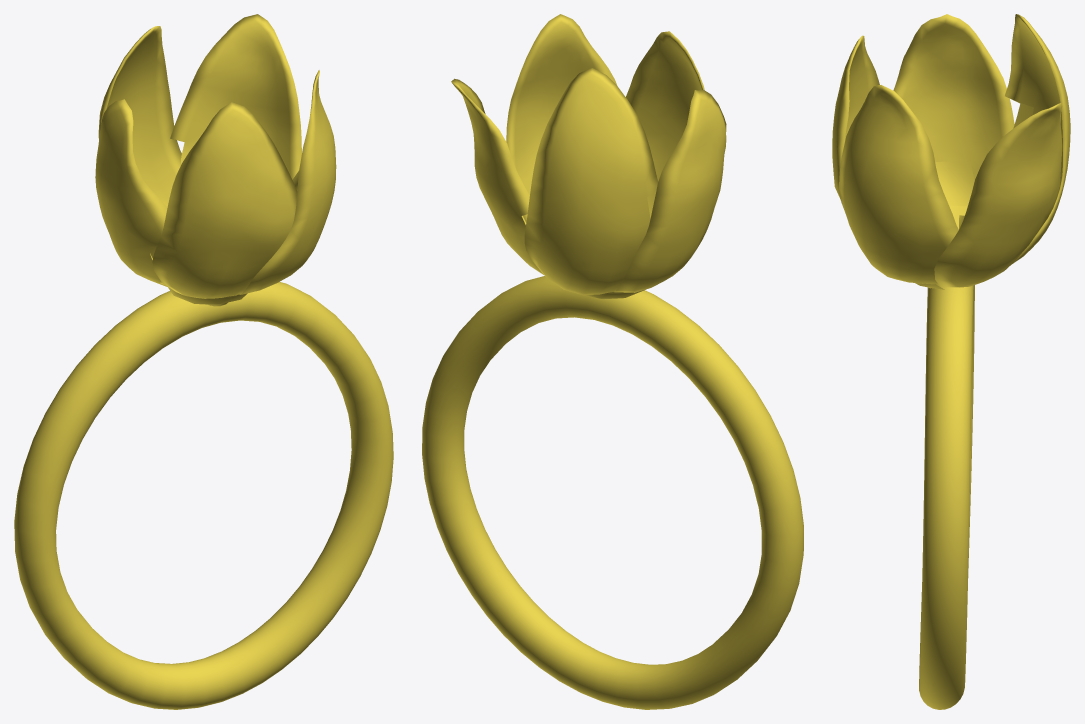
File: tulip.glb
3 renders of one model, left to right at view 1: azimuth 30°, elevation 25°; view 2: azimuth 150°, elevation 25°; view 3: azimuth 270°, elevation 25°, orthographic. The views are drawn at different scales.
Parts seen in each view (by area): view 1: Tulip; view 2: Tulip; view 3: Tulip.
Boxes of the visible parts, x1=… form: Tulip: x1=14, y1=14, x2=393, y2=709; Tulip: x1=422, y1=14, x2=803, y2=709; Tulip: x1=832, y1=14, x2=1070, y2=709.
Size of the model in its own units: 27.48 by 46.3 by 14.9.
